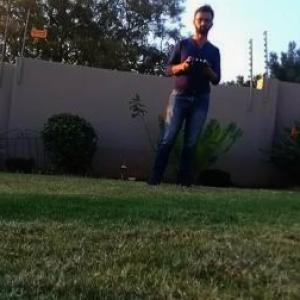follow: (139, 0, 226, 192)
